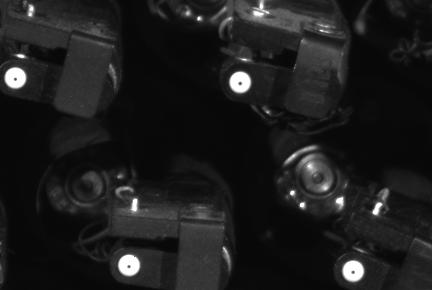fiber: (225, 68, 257, 100), (1, 63, 33, 94), (337, 255, 369, 285), (114, 252, 145, 280)
